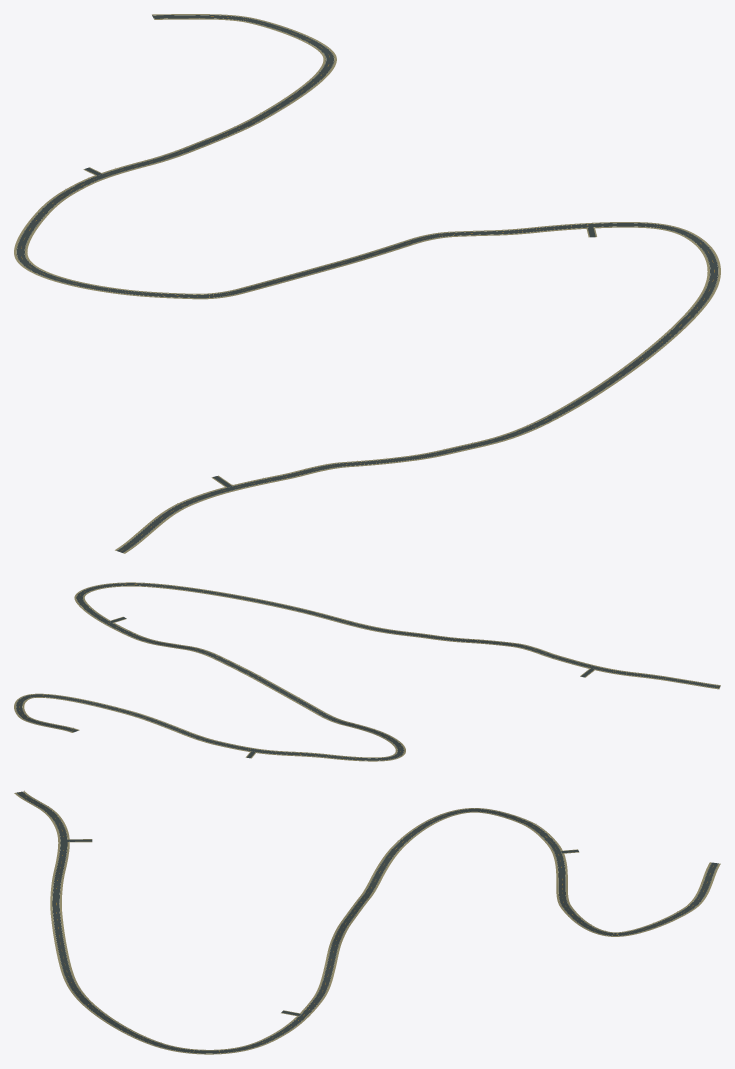
File: roads.dae
The picture shows the model from 3 angles, top to bottom: view 1: azimuth 30°, elevation 25°; view 2: azimuth 150°, elevation 25°; view 3: azimuth 270°, elevation 25°; orthographic projection. The views are drawn at different scales.
Parts seen in each view (by area): view 1: roads; view 2: roads; view 3: roads.
Boxes of the visible parts, x1,y1,x2,y2 form: roads: (14, 14, 720, 553); roads: (14, 582, 720, 761); roads: (14, 790, 720, 1054).
Size of the model in its own units: 856 by 853 by 158.
